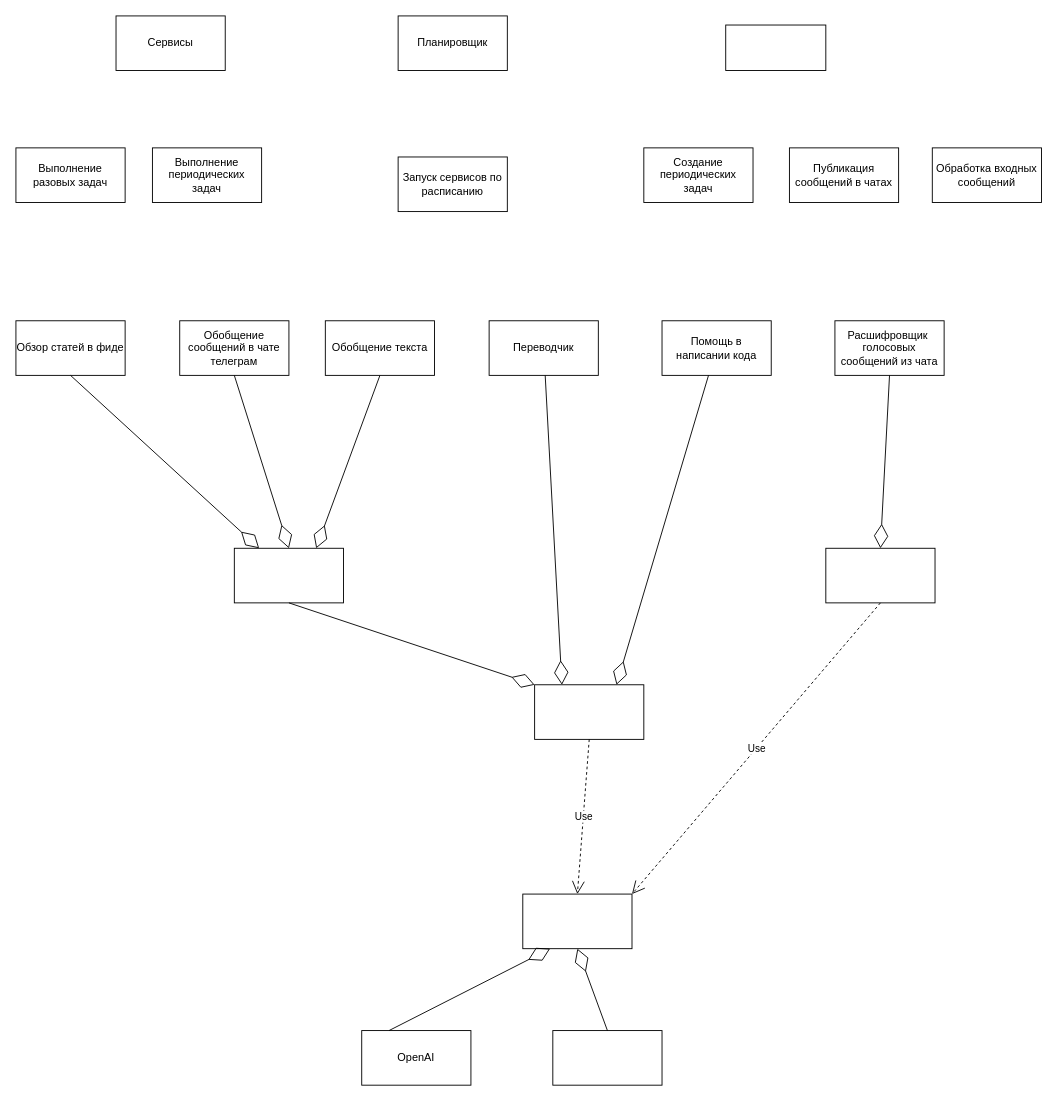
The diagram is 1057 pixels wide and 1101 high, and some of its shapes have lost their labels. Here are the shapes that lost their labels. From the top down, the box of each, then its label:
(725, 24, 826, 71): Телеграм бот
(233, 547, 344, 603): Суммаризатор
(825, 547, 935, 603): Расшифровщик аудио
(534, 684, 644, 739): Настойщик сессии для диалога с моделью
(522, 893, 632, 949): Диалог с моделью
